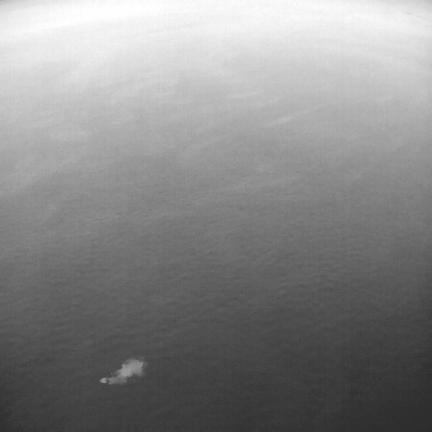flukeprints: (115, 359, 144, 378), (100, 378, 107, 383)
